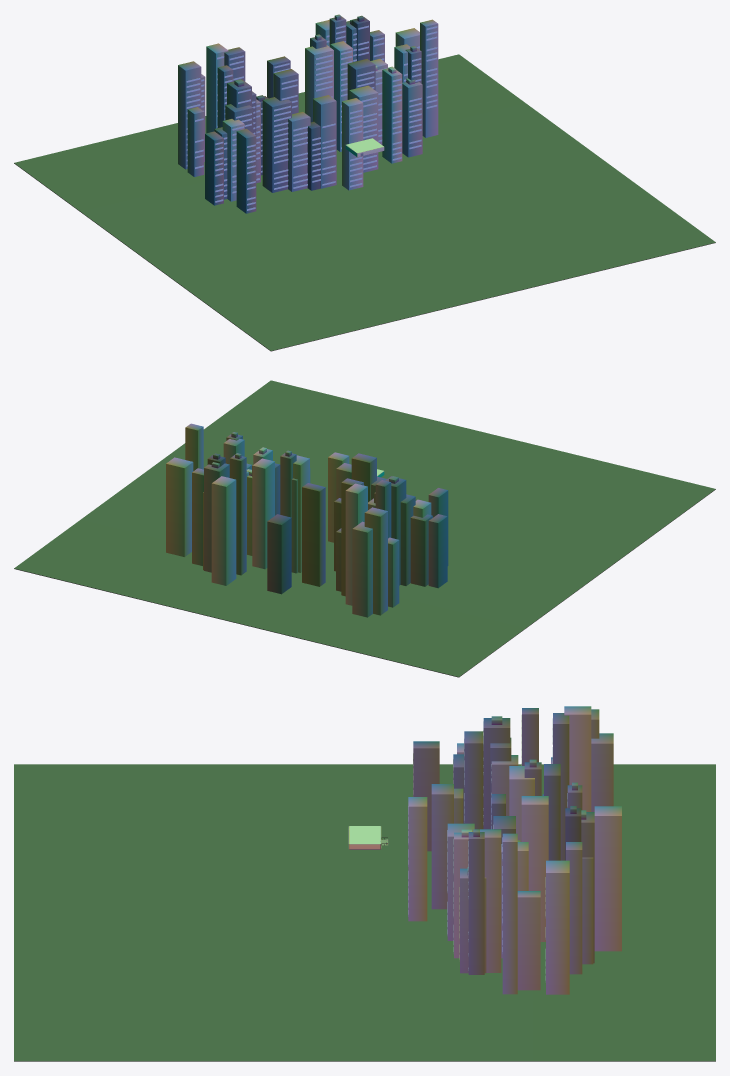
The model's file is office.glb.
The picture shows the model from 3 angles, top to bottom: view 1: azimuth 30°, elevation 25°; view 2: azimuth 150°, elevation 25°; view 3: azimuth 270°, elevation 25°; orthographic projection. The views are drawn at different scales.
Parts seen in each view (by area): view 1: Arch_Ground, Arch_Skyline; view 2: Arch_Ground, Arch_Skyline; view 3: Arch_Ground, Arch_Skyline, Arch_Ceiling-col.
Part boxes in pixels (left/top/right/bottom): Arch_Ground: left=14, top=54, right=715, bottom=351; Arch_Skyline: left=178, top=14, right=438, bottom=213; Arch_Ground: left=14, top=380, right=715, bottom=677; Arch_Skyline: left=166, top=423, right=448, bottom=617; Arch_Ground: left=14, top=764, right=715, bottom=1061; Arch_Skyline: left=408, top=706, right=621, bottom=994; Arch_Ceiling-col: left=349, top=826, right=380, bottom=843.
Size of what is drawn, in the model's own units: 400 by 102 by 400.
